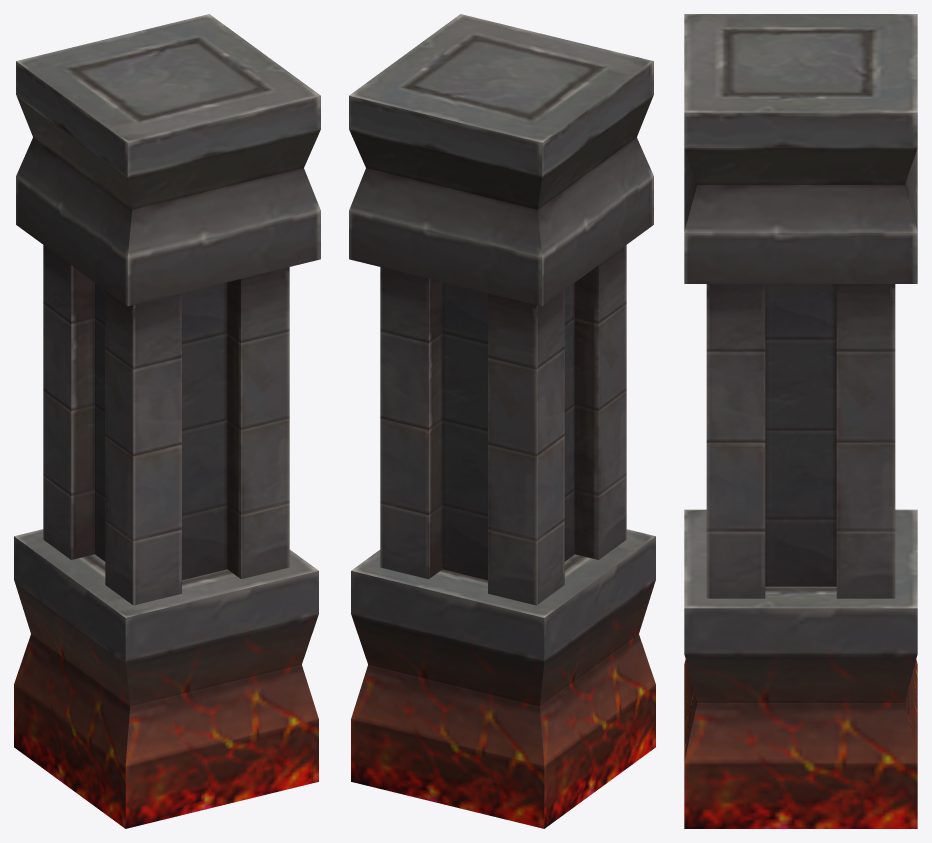
File: zhuzi_03.FBX
3 views of the same model, side by side, from view 1: azimuth 30°, elevation 25°; view 2: azimuth 150°, elevation 25°; view 3: azimuth 270°, elevation 25° (orthographic). The views are drawn at different scales.
Parts seen in each view (by area): view 1: zhuzi03; view 2: zhuzi03; view 3: zhuzi03.
Boxes of the visible parts, <box> form: zhuzi03: <box>14,14,320,828</box>; zhuzi03: <box>349,14,655,828</box>; zhuzi03: <box>684,14,917,828</box>.
Bounding box in the file's own units: 309 × 1036 × 306.
